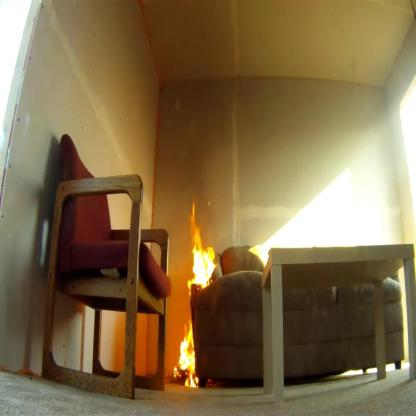fire: (184, 202, 217, 299), (172, 320, 202, 395)
